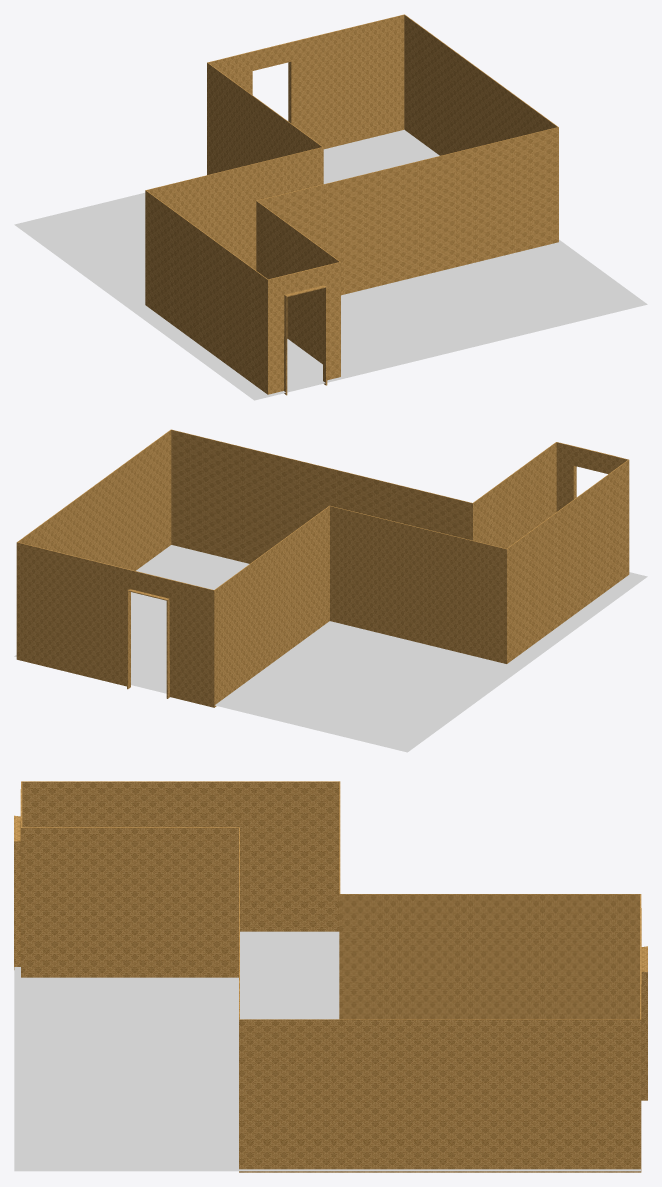
Rendered from Room_Exit.fbx.
3 views of the same model, one above another, from view 1: azimuth 30°, elevation 25°; view 2: azimuth 150°, elevation 25°; view 3: azimuth 270°, elevation 25° (orthographic). The views are drawn at different scales.
Visible parts, largest first — view 1: Walls.005, Plane.001; view 2: Walls.005, Plane.001; view 3: Walls.005, Plane.001.
Part boxes in pixels (x1,y1,x2,y2): Walls.005: (145,14,558,395); Plane.001: (14,129,647,400); Walls.005: (16,429,629,707); Plane.001: (14,545,647,752); Walls.005: (14,781,647,1172); Plane.001: (14,931,640,1171).
Bounding box in the file's own units: 1293 × 368 × 1383.
2 materials, 1 textured.
